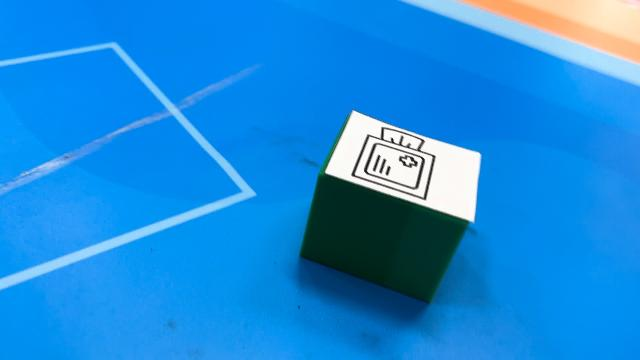napkin: (301, 112, 483, 302)
